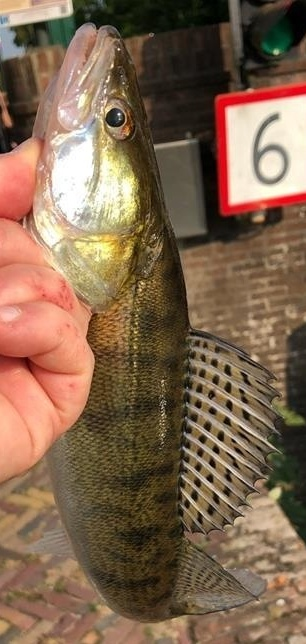Sander lucioperca: (20, 20, 286, 624)
